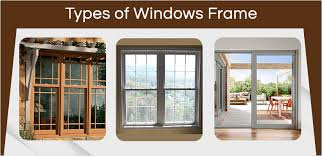Window: (212, 50, 298, 127), (118, 49, 200, 126), (28, 56, 106, 129)
